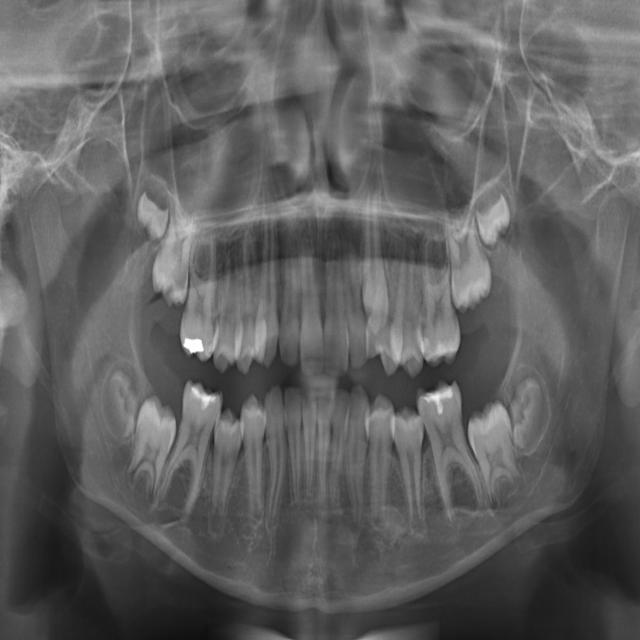AmalgamRestoration: (179, 332, 211, 359)
CompositeResinRestoration: (421, 387, 455, 418), (421, 332, 438, 361)
